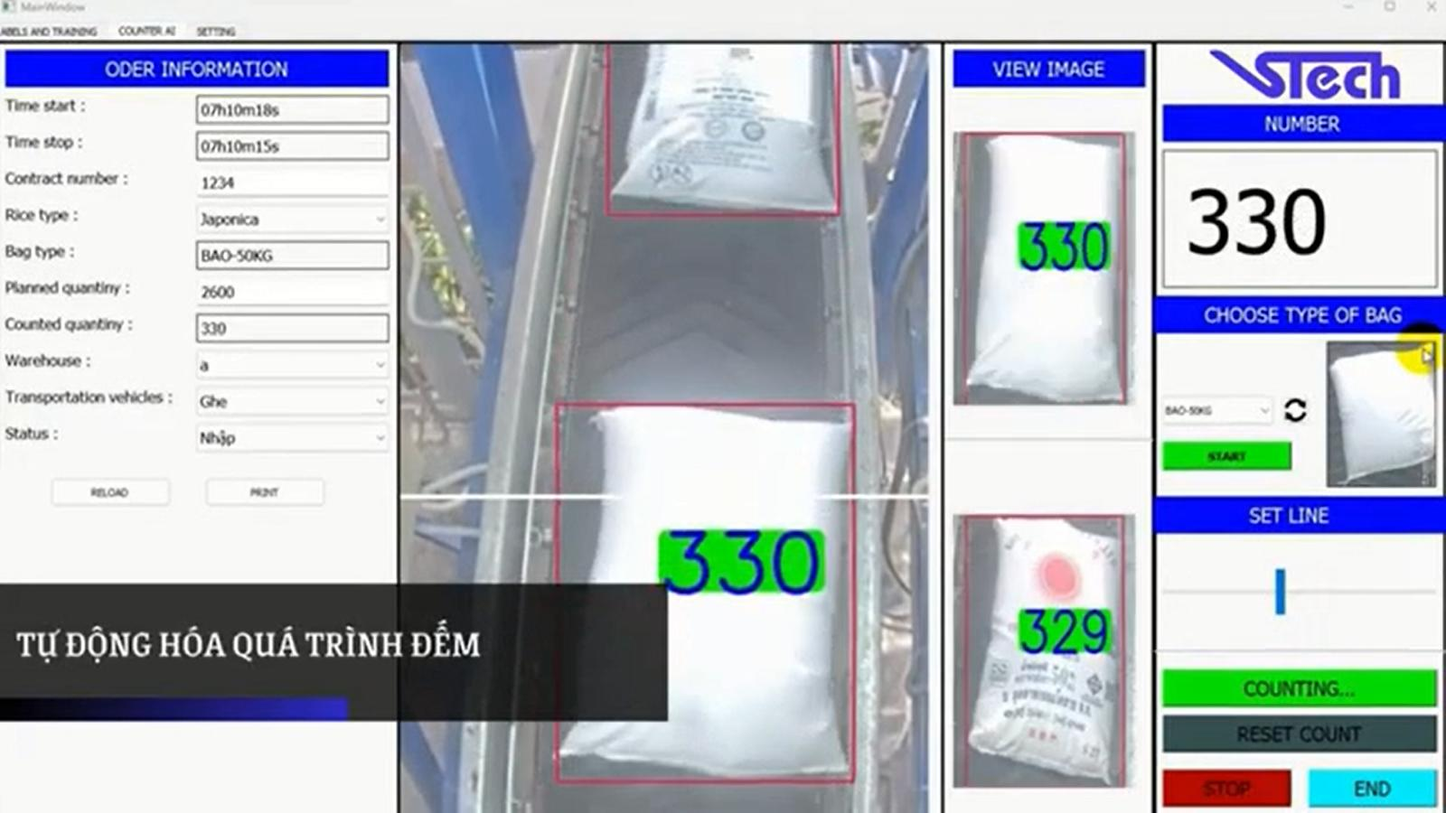rice-bag: (561, 407, 847, 777), (965, 136, 1122, 403), (969, 517, 1119, 780), (614, 45, 834, 213)
